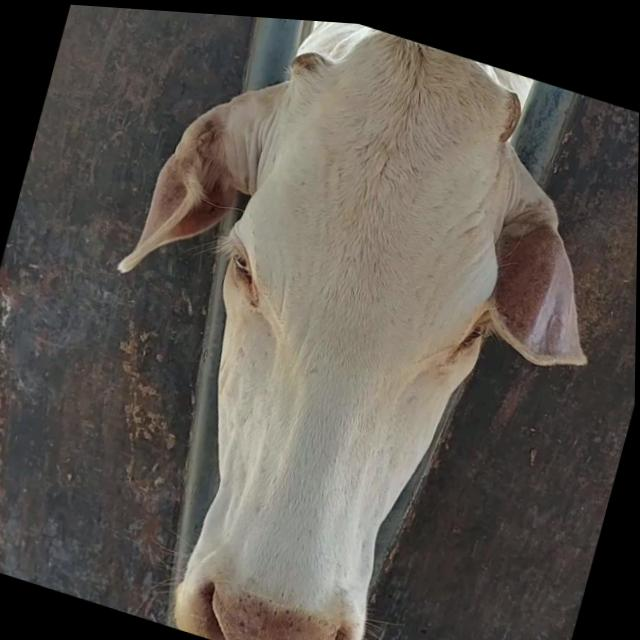cowFace: (128, 7, 549, 640)
